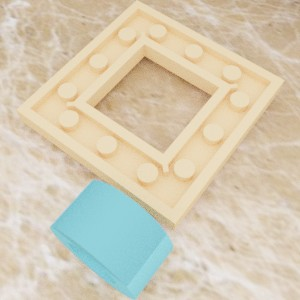lego: (16, 0, 284, 231), (49, 179, 173, 300)
